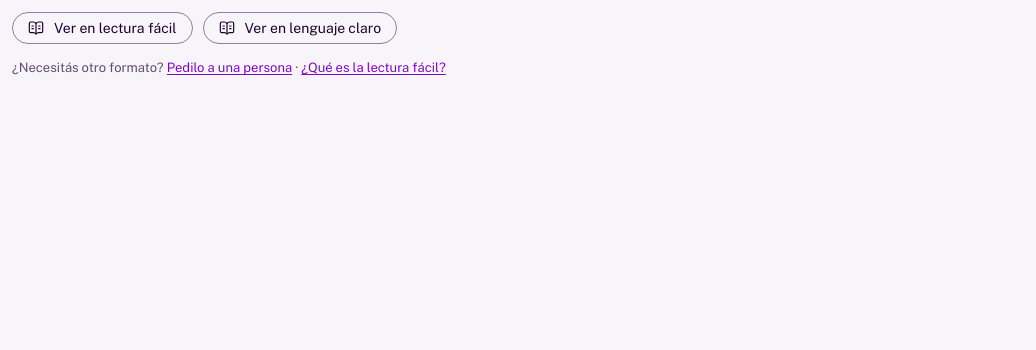
it: AccessibleVersionPanel › "Me sirve" solo para quien la pidió y pasa a ACCEPTED
This screenshot has width=1036, height=350.
What coordinates should you click on to do the following:
click the button "Ver en lectura fácil"
I would click on:
 (102, 28)
Its box is [12,12,192,44].
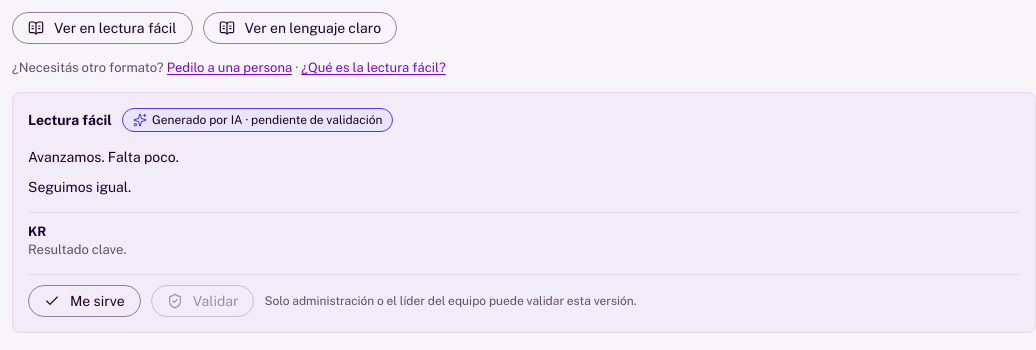
What coordinates should you click on to do the following:
click the button "Me sirve"
I would click on:
 (84, 301)
Its box is [28,285,141,317].
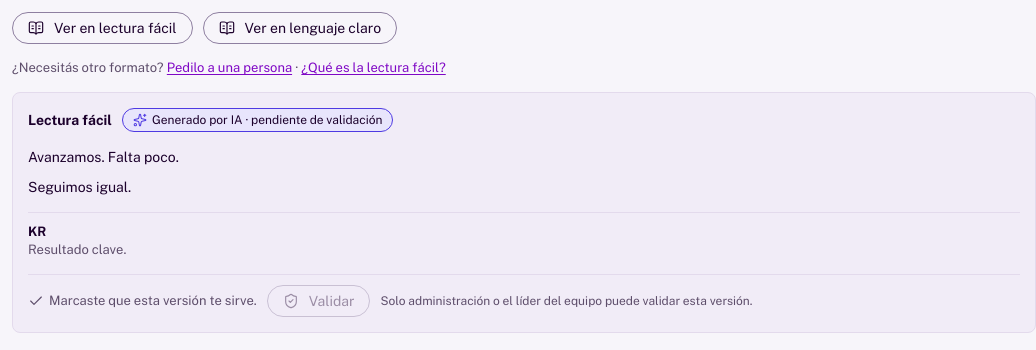
Expected: the text "Marcaste que esta versión te sirve." is shown, [28,292,257,310]
Expected: the button "Me sirve" is gone
